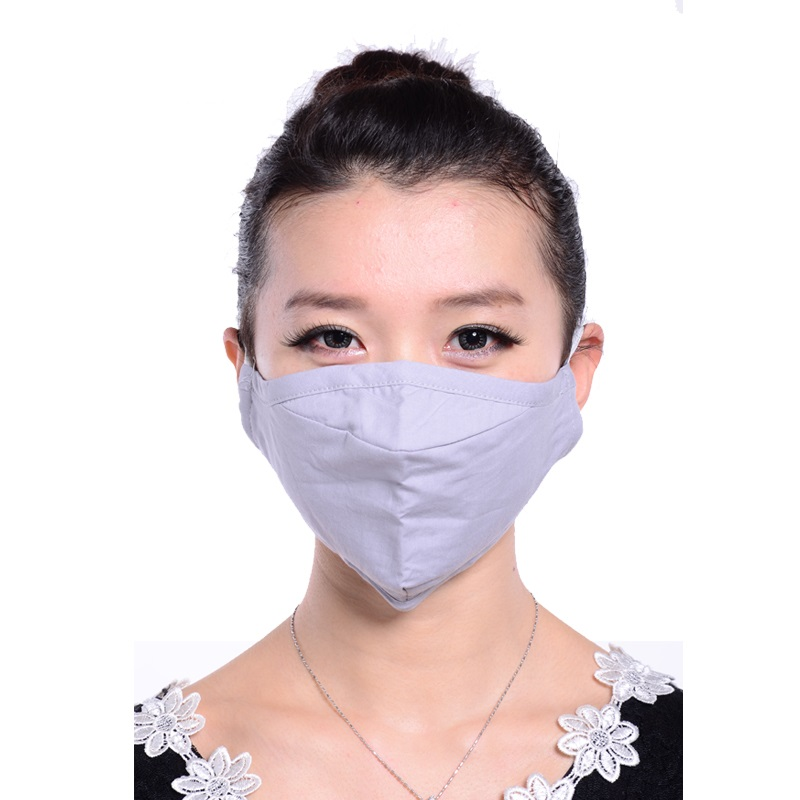face_mask: (253, 171, 561, 583)
